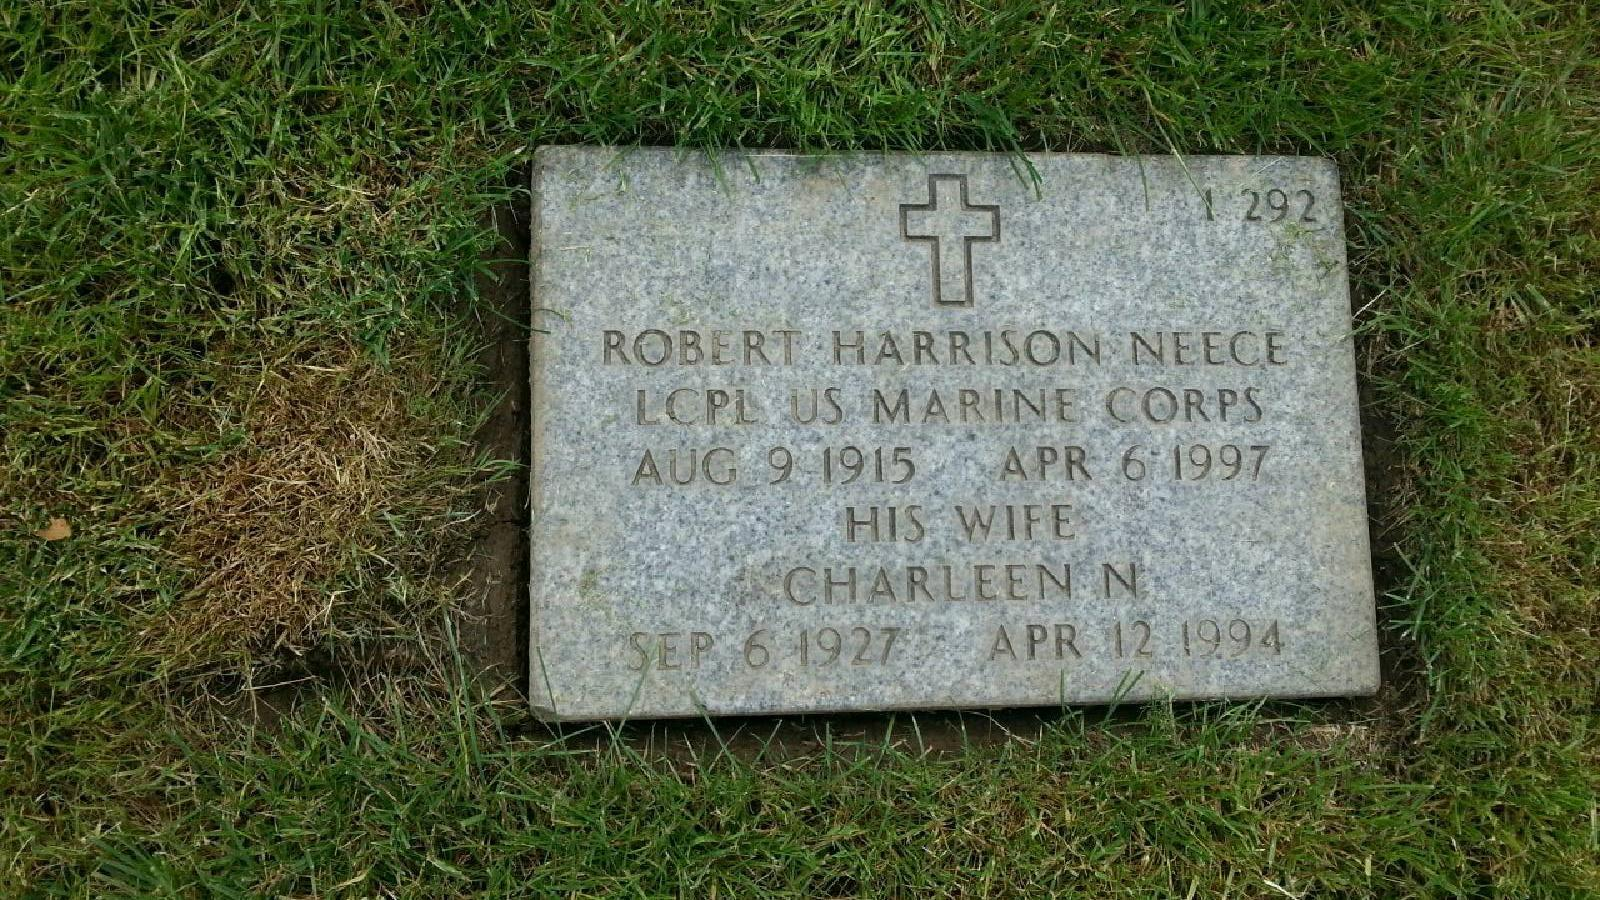flat: (515, 136, 1384, 714)
